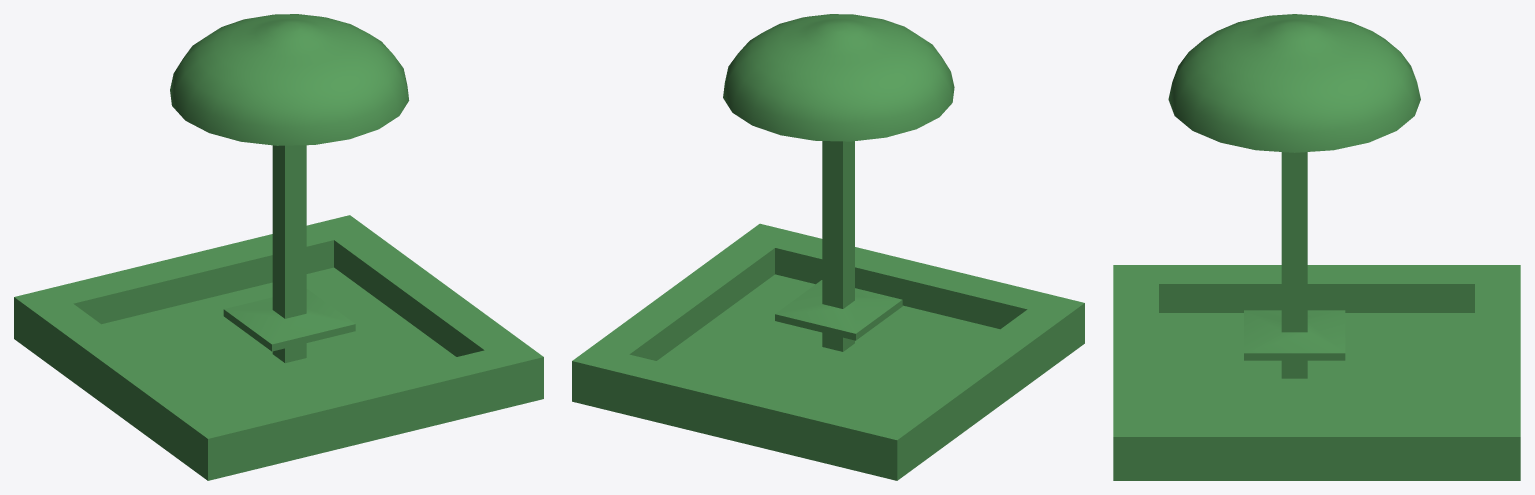
File: Sandbox.fbx
3 renders of one model, left to right at view 1: azimuth 30°, elevation 25°; view 2: azimuth 150°, elevation 25°; view 3: azimuth 270°, elevation 25°, orthographic. The views are drawn at different scales.
Parts seen in each view (by area): view 1: Sandbox; view 2: Sandbox; view 3: Sandbox.
Part boxes in pixels (x1,y1,x2,y2): Sandbox: (14,14,543,480); Sandbox: (572,14,1084,480); Sandbox: (1113,14,1520,480).
Bounding box in the file's own units: 311 × 309 × 311.
